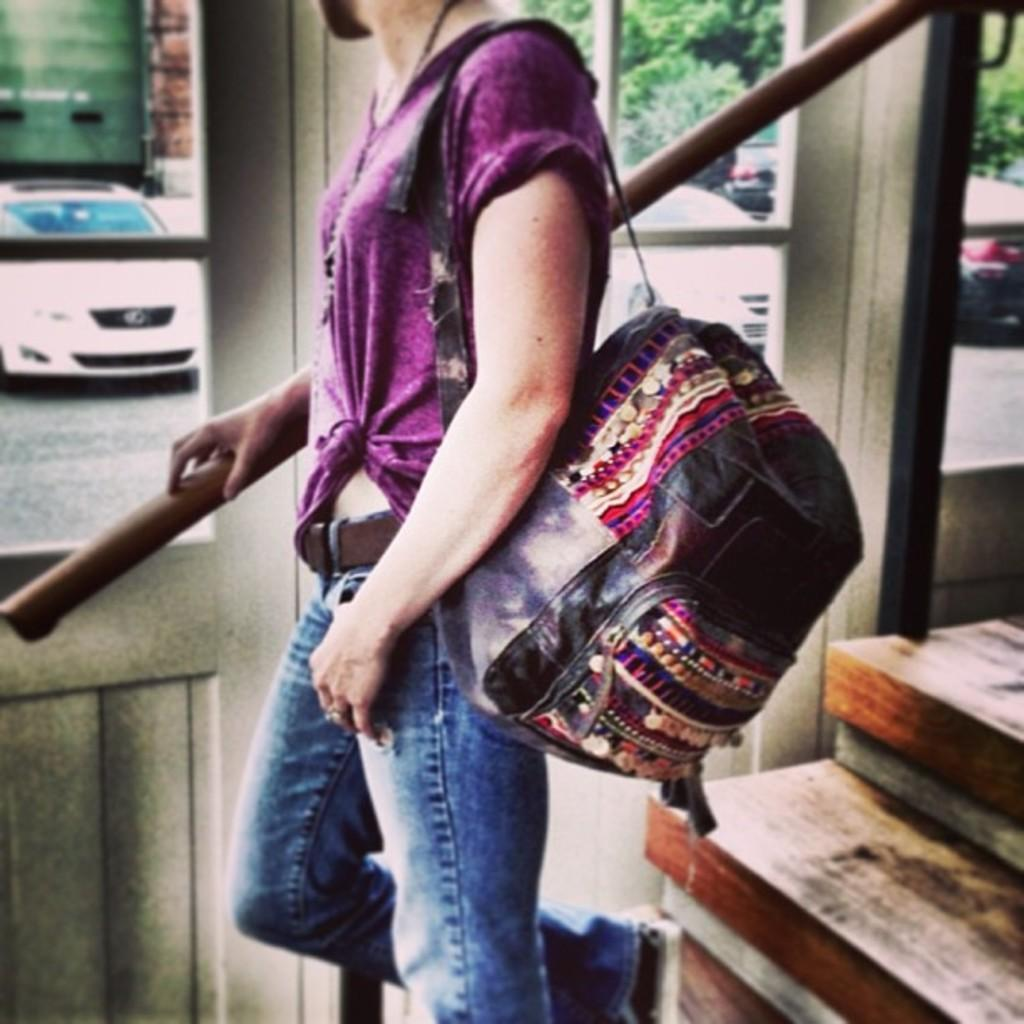Luggage-and-bags: (430, 7, 872, 840)
